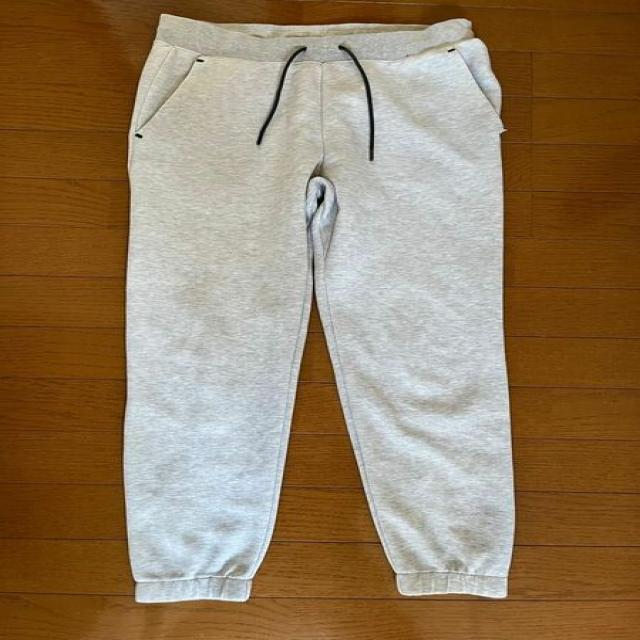long-pants: (121, 13, 515, 601)
